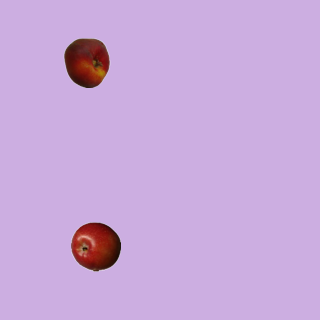Apple Braeburn: (70, 221, 120, 271)
Nectarine Flat: (61, 37, 111, 87)
